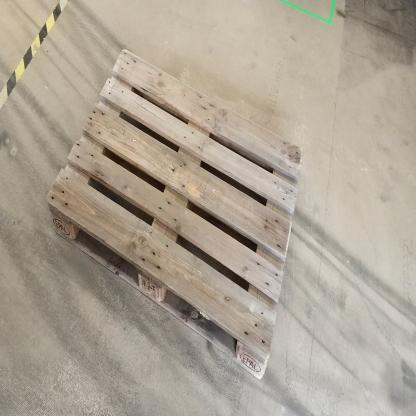BoxFace: (44, 42, 307, 392)
